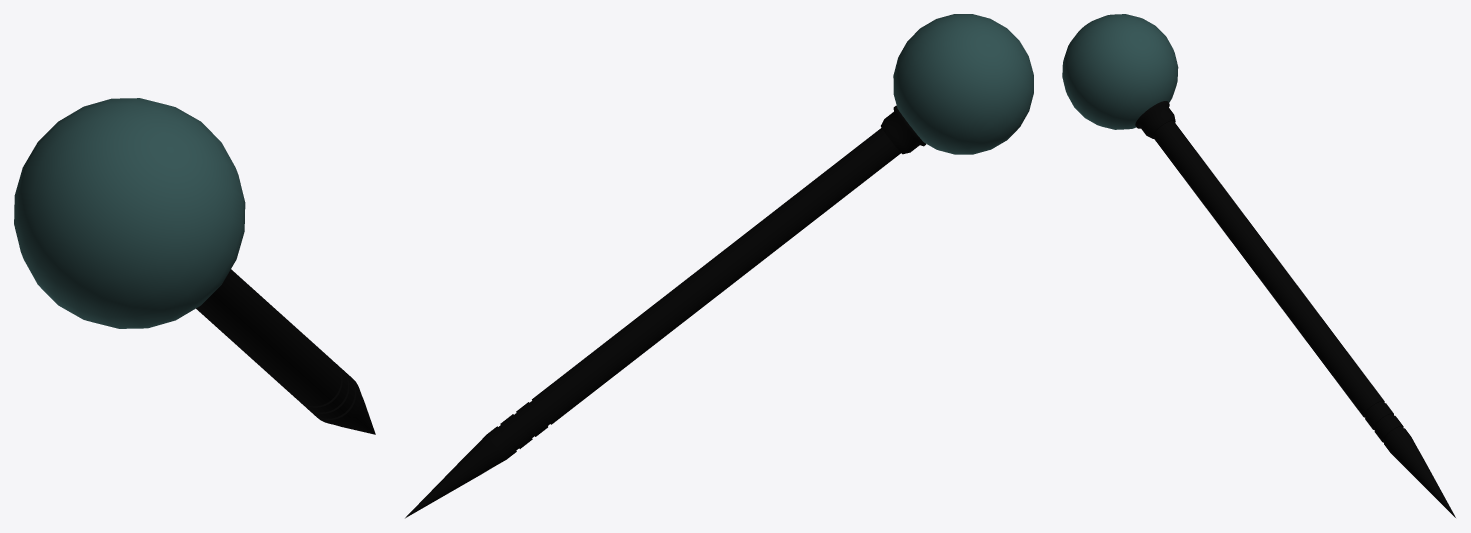
The model's file is DARKSLATE.glb.
The picture shows the model from 3 angles, left to right: view 1: azimuth 30°, elevation 25°; view 2: azimuth 150°, elevation 25°; view 3: azimuth 270°, elevation 25°; orthographic projection. The views are drawn at different scales.
Visible parts, largest first — view 1: Sphere, Needle; view 2: Needle, Sphere, Ball_Holder; view 3: Needle, Sphere, Ball_Holder.
Boxes of the visible parts, bbox=[...] form: Sphere: bbox=[14, 98, 245, 328]; Needle: bbox=[196, 269, 375, 434]; Needle: bbox=[405, 128, 900, 518]; Sphere: bbox=[893, 14, 1033, 154]; Ball_Holder: bbox=[881, 105, 926, 154]; Needle: bbox=[1152, 120, 1455, 517]; Sphere: bbox=[1062, 14, 1178, 129]; Ball_Holder: bbox=[1135, 101, 1175, 138].
Bounding box in the file's own units: 7.45 × 7.45 × 7.45.
